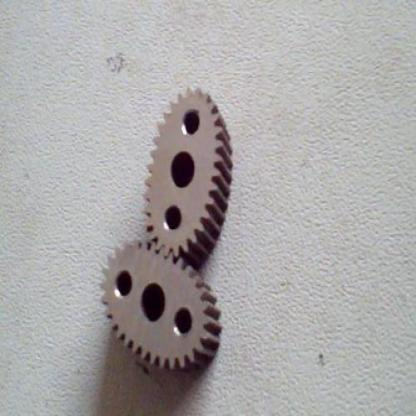FOD: (97, 236, 222, 382), (141, 84, 234, 266)
